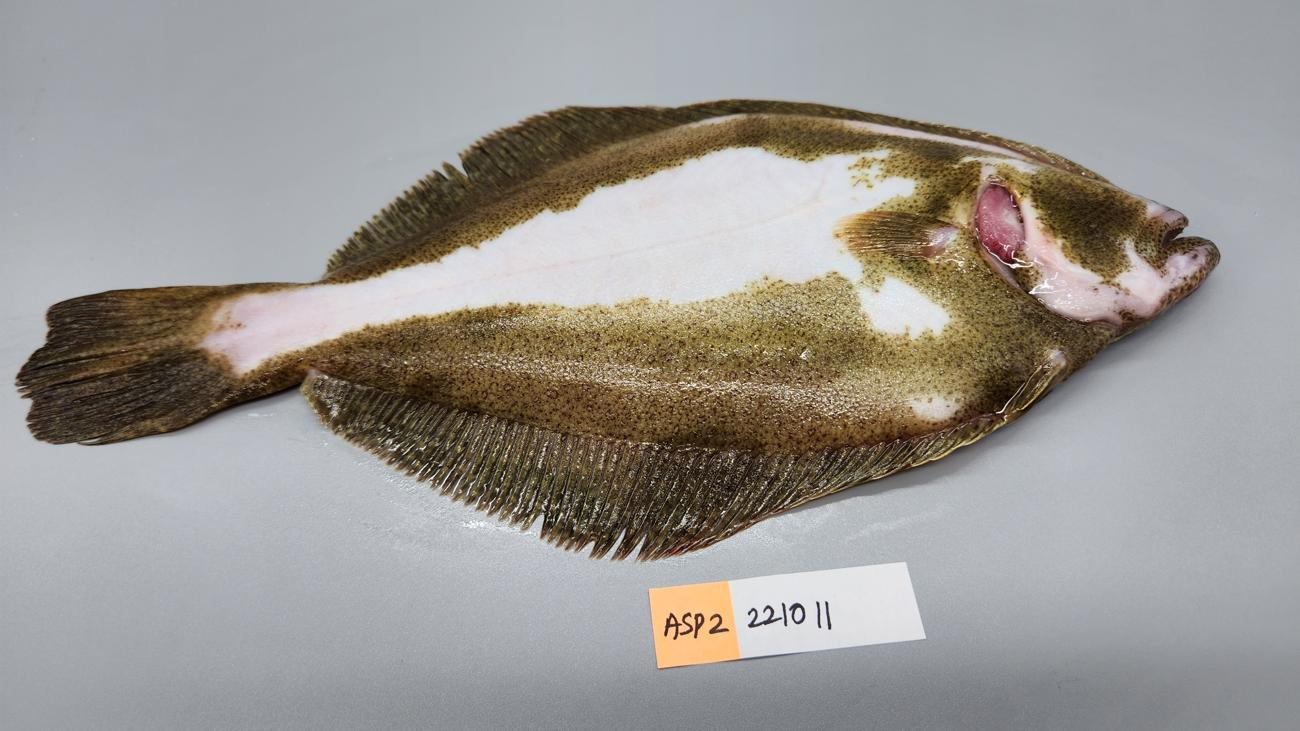SPOUY: (9, 91, 1230, 562)
